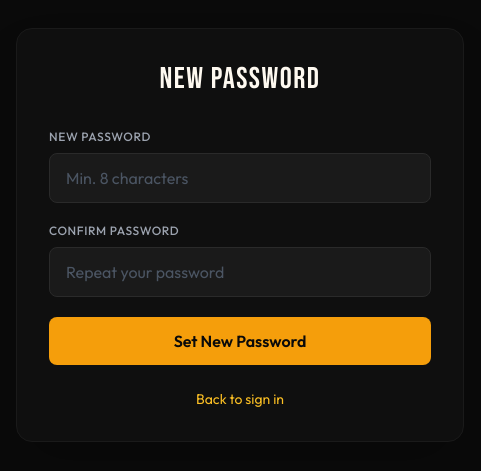
Test: ResetPasswordPage › shows the mismatch error inline at the confirm field, not the banner
Step 1. Type "first-password" into the password field labelled "New Password" → [240, 178], box x1=49 y1=153 x2=431 y2=203
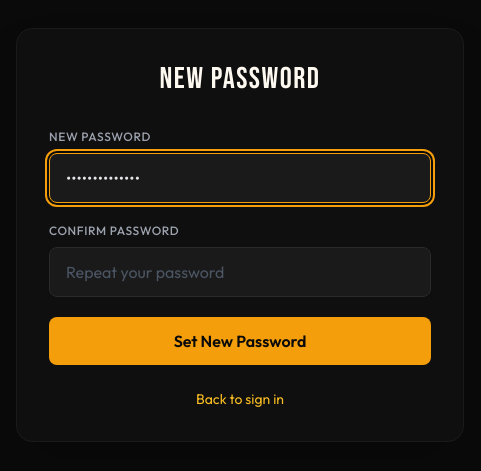
Step 2. Type "different-password" into the password field labelled "Confirm Password" → [240, 272], box x1=49 y1=247 x2=431 y2=297
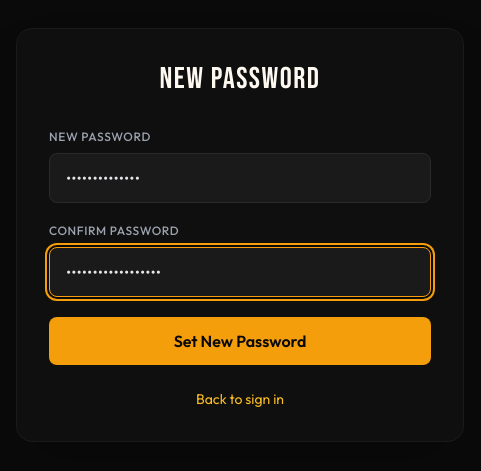
Step 3. Click the button "Set New Password" → [240, 341], box x1=49 y1=317 x2=431 y2=365
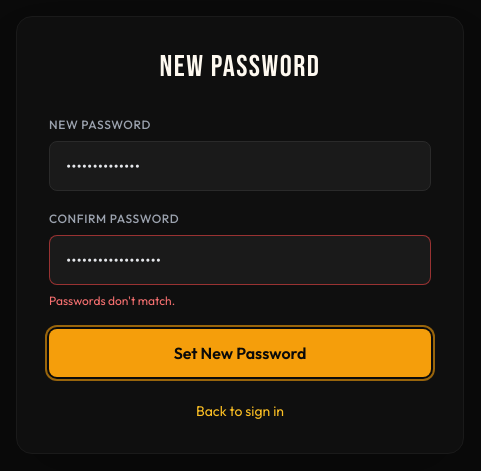
Expected: the text "Passwords don't match." is shown, x1=49 y1=293 x2=175 y2=308
